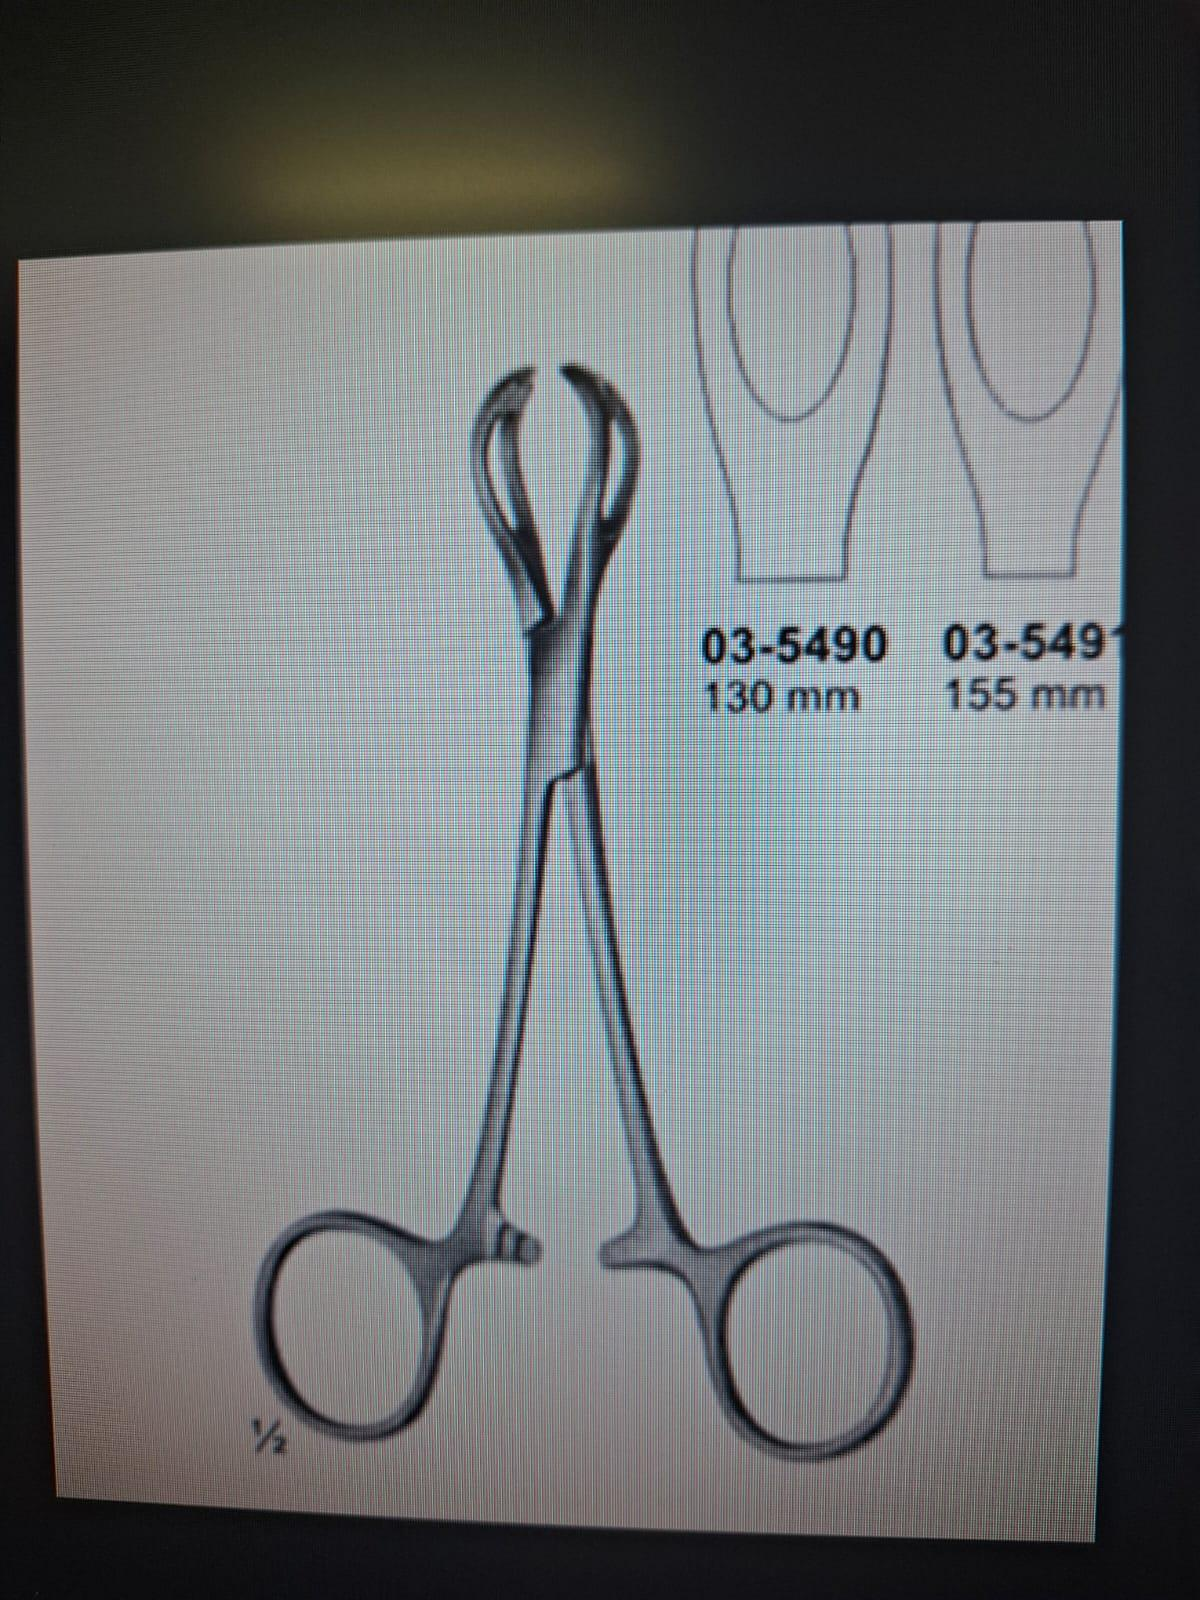Lane Tissue Forceps: (262, 358, 913, 1465)
